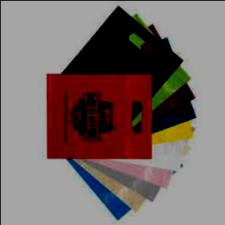Plastic: (43, 72, 157, 163)
